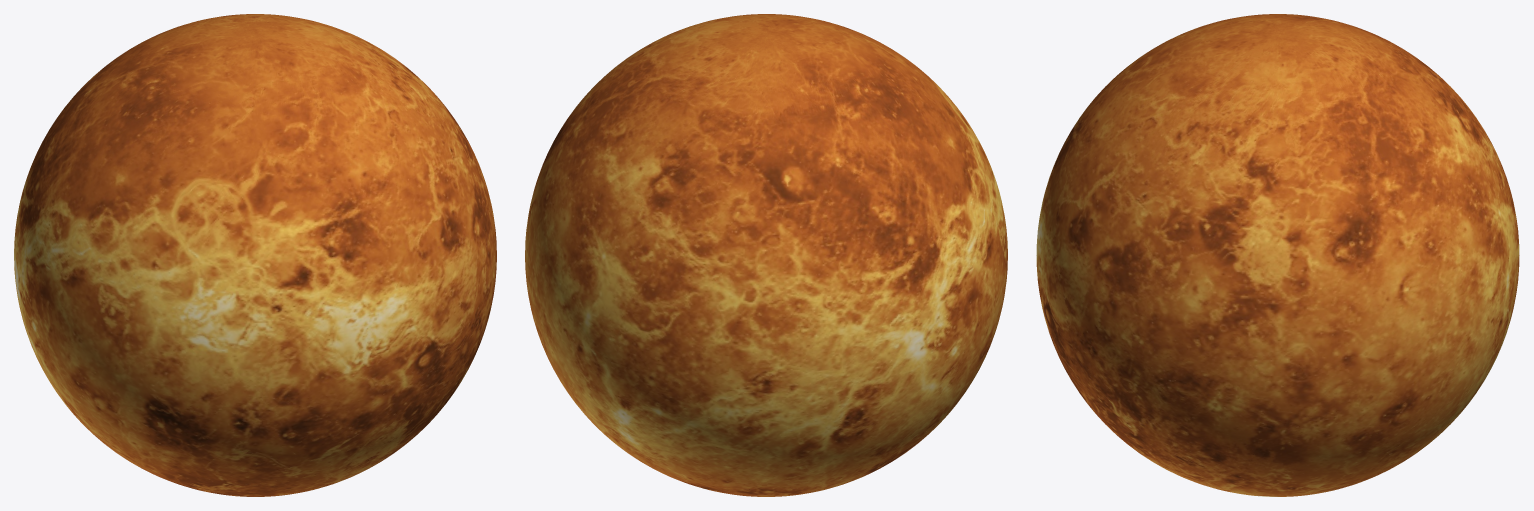
File: venus.fbx
The picture shows the model from 3 angles, left to right: view 1: azimuth 30°, elevation 25°; view 2: azimuth 150°, elevation 25°; view 3: azimuth 270°, elevation 25°; orthographic projection.
Visible parts, largest first — view 1: VenusSurface; view 2: VenusSurface; view 3: VenusSurface.
Boxes of the visible parts, x1=… form: VenusSurface: x1=14, y1=14, x2=496, y2=496; VenusSurface: x1=525, y1=14, x2=1007, y2=496; VenusSurface: x1=1036, y1=14, x2=1519, y2=496.
Bounding box in the file's own units: 584 × 584 × 584.
Materials: 1 (1 with a texture image).
